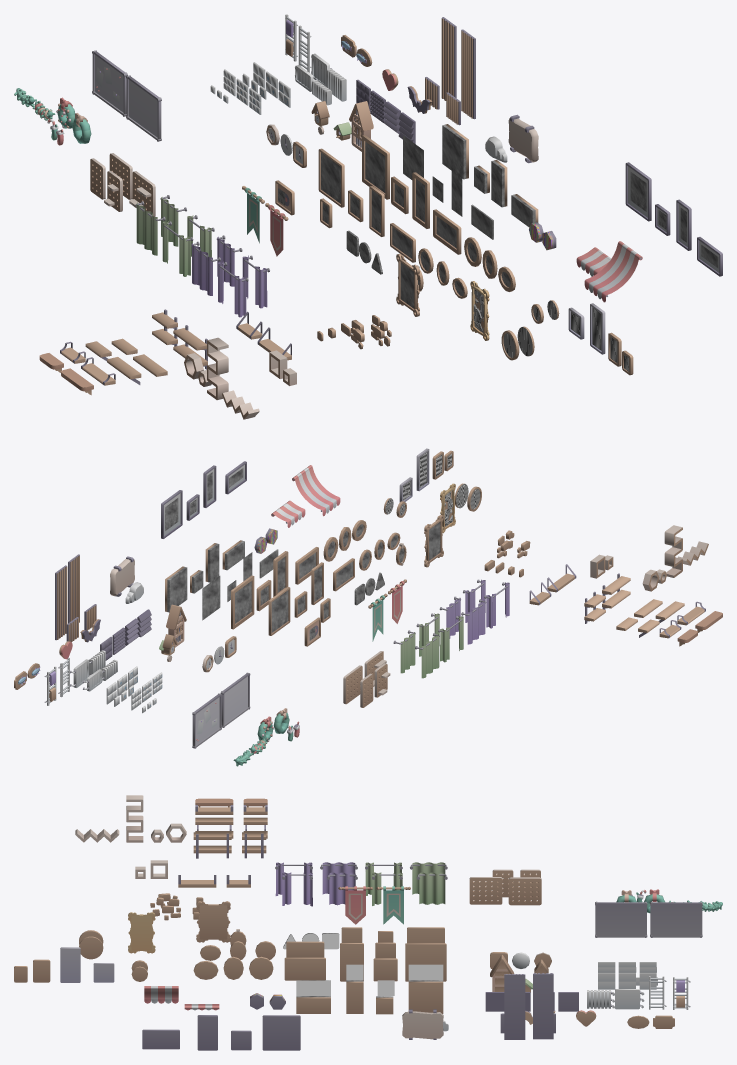
File: wall-decoration.glb
3 renders of one model, top to bottom at view 1: azimuth 30°, elevation 25°; view 2: azimuth 150°, elevation 25°; view 3: azimuth 270°, elevation 25°, orthographic. The views are drawn at different scales.
Visible parts, largest first — view 1: whiteboard (%wall), awning (%wall), whiteboard-clutter (%wall), art-frame-thick-square (%wall), wood-panel-thin-tall (%wall), wood-panel-tall (%wall), art-frame-thin-border-square (%wall), art-frame-thin-square (%wall), art-canvas-square (%wall), artifact-stone (%wall), art-frame-ornate (%wall) (%secret), shelf-squigly (%wall) (+19 smaller); view 2: whiteboard-clutter (%wall), awning (%wall), whiteboard (%wall), art-frame-thick-square (%wall), wood-panel-tall (%wall), art-frame-thin-square (%wall), art-frame-thin-border-square (%wall), art-canvas-square (%wall), shelf-squigly (%wall), art-frame-ornate (%wall) (%secret), wood-panel-thin-tall (%wall), artifact-stone (%wall) (+14 smaller); view 3: whiteboard-clutter (%wall), whiteboard (%wall), wood-panel-thin-tall (%wall), wood-panel-tall (%wall), art-frame-thin-border-square (%wall), art-frame-ornate (%wall) (%secret), art-canvas-square (%wall), artifact-stone (%wall), art-frame-thick-square (%wall), art-frame-thick-landscape (%wall), mirror-broken (%wall), pegboard-wide (%wall) (+35 smaller).
Part boxes in pixels (<box>): whiteboard (%wall): <box>126,75,161,141</box>; awning (%wall): <box>584,241,642,302</box>; whiteboard-clutter (%wall): <box>92,50,127,116</box>; art-frame-thick-square (%wall): <box>362,135,389,199</box>; wood-panel-thin-tall (%wall): <box>461,29,475,119</box>; wood-panel-tall (%wall): <box>441,17,456,100</box>; art-frame-thin-border-square (%wall): <box>625,162,651,221</box>; art-frame-thin-square (%wall): <box>318,148,344,207</box>; art-canvas-square (%wall): <box>442,124,468,179</box>; artifact-stone (%wall): <box>508,114,538,163</box>; art-frame-ornate (%wall) (%secret): <box>396,253,419,316</box>; shelf-squigly (%wall): <box>207,337,228,400</box>; whiteboard-clutter (%wall): <box>192,693,221,748</box>; awning (%wall): <box>292,465,340,516</box>; whiteboard (%wall): <box>220,672,250,727</box>; art-frame-thick-square (%wall): <box>231,575,254,629</box>; wood-panel-tall (%wall): <box>55,565,67,640</box>; art-frame-thin-square (%wall): <box>268,587,290,635</box>; art-frame-thin-border-square (%wall): <box>161,490,182,538</box>; art-canvas-square (%wall): <box>165,566,187,612</box>; shelf-squigly (%wall): <box>664,525,682,577</box>; art-frame-ornate (%wall) (%secret): <box>424,515,443,567</box>; wood-panel-thin-tall (%wall): <box>68,554,79,623</box>; artifact-stone (%wall): <box>110,556,134,596</box>; whiteboard-clutter (%wall): <box>650,901,702,937</box>; whiteboard (%wall): <box>595,901,647,937</box>; wood-panel-thin-tall (%wall): <box>504,974,525,1039</box>; wood-panel-tall (%wall): <box>533,973,553,1039</box>; art-frame-thin-border-square (%wall): <box>262,1015,300,1050</box>; art-frame-ornate (%wall) (%secret): <box>196,901,230,942</box>; art-canvas-square (%wall): <box>408,980,443,1013</box>; artifact-stone (%wall): <box>402,1009,443,1039</box>; art-frame-thick-square (%wall): <box>405,943,446,981</box>; art-frame-thick-landscape (%wall): <box>284,957,325,980</box>; mirror-broken (%wall): <box>128,912,155,953</box>; pegboard-wide (%wall): <box>508,877,541,905</box>.
Size of the model in its own units: 16.56 by 2.19 by 20.53.
6 materials, 3 textured.
